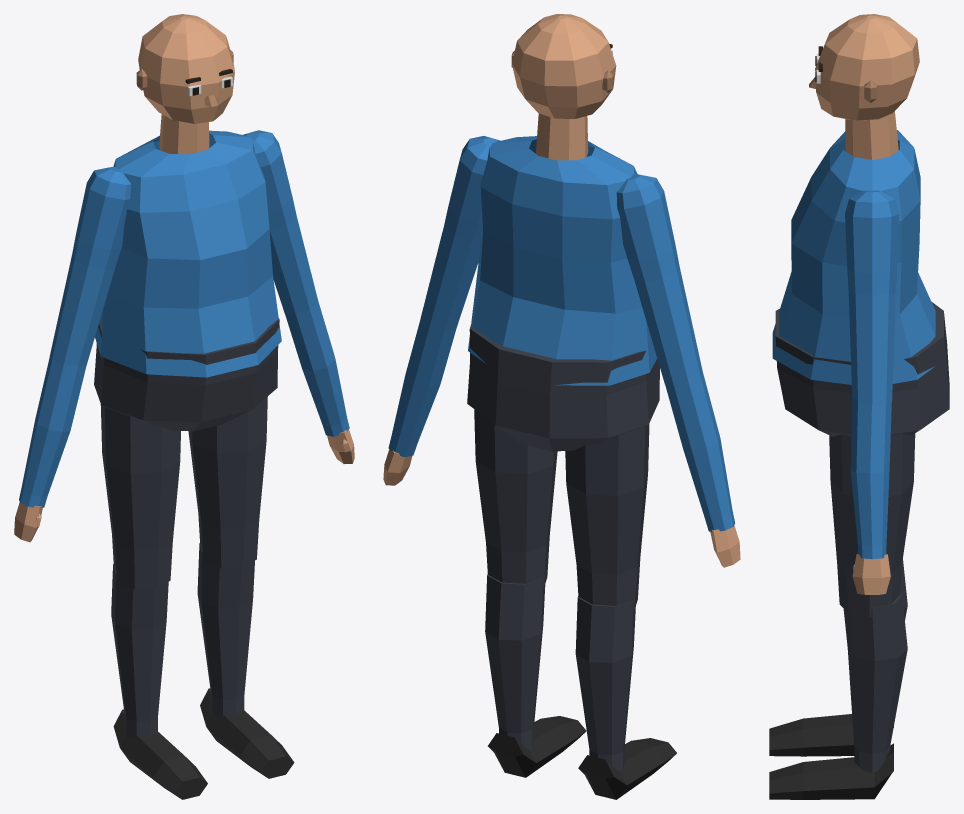
File: adulte_f_rond.glb
The picture shows the model from 3 angles, left to right: view 1: azimuth 30°, elevation 25°; view 2: azimuth 150°, elevation 25°; view 3: azimuth 270°, elevation 25°; orthographic projection. The views are drawn at different scales.
Parts seen in each view (by area): view 1: torse, jambe_d, bassin, tibia_g, tibia_d, tete, jambe_g, bras_d, avant_bras_d, bras_g, avant_bras_g; view 2: torse, bassin, jambe_d, tibia_d, tibia_g, tete, jambe_g, bras_d, bras_g, avant_bras_d, avant_bras_g; view 3: torse, tibia_g, tete, bras_g, bassin, jambe_g, avant_bras_g, tibia_d.
Part boxes in pixels (<box>): torse: <box>95,130,281,377</box>; jambe_d: <box>100,404,180,589</box>; bassin: <box>94,318,279,431</box>; tibia_g: <box>197,543,294,778</box>; tibia_d: <box>111,564,207,799</box>; tete: <box>136,14,234,154</box>; jambe_g: <box>188,396,267,568</box>; bras_d: <box>49,166,131,366</box>; avant_bras_d: <box>14,357,86,542</box>; bras_g: <box>243,130,318,315</box>; avant_bras_g: <box>285,302,354,463</box>; torse: <box>468,136,657,385</box>; bassin: <box>467,323,659,451</box>; jambe_d: <box>565,424,649,609</box>; tibia_d: <box>575,596,676,799</box>; tibia_g: <box>485,574,586,777</box>; tete: <box>511,14,616,160</box>; jambe_g: <box>474,409,557,587</box>; bras_d: <box>616,174,702,386</box>; bras_g: <box>420,136,500,330</box>; avant_bras_d: <box>665,372,740,567</box>; avant_bras_g: <box>383,318,456,485</box>; torse: <box>772,130,935,384</box>; tibia_g: <box>769,594,907,799</box>; tete: <box>809,14,919,159</box>; bras_g: <box>845,190,899,404</box>; bassin: <box>775,302,949,436</box>; jambe_g: <box>829,433,915,617</box>; avant_bras_g: <box>850,399,891,594</box>; tibia_d: <box>769,559,907,756</box>.
Size of the model in its own units: 0.7777 by 1.63 by 0.3526.
Materials: 1 (1 with a texture image).
